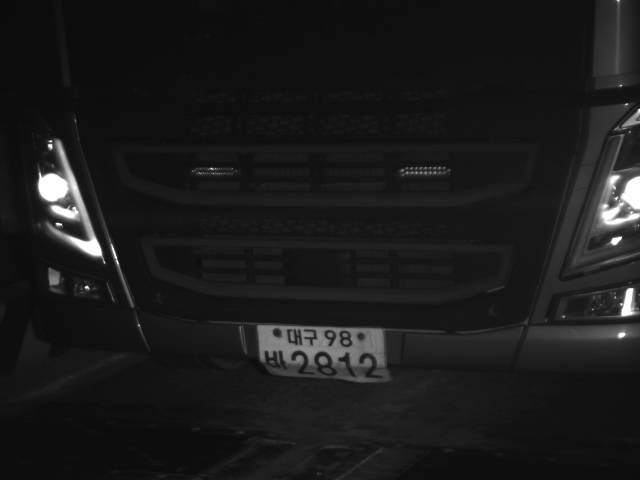car: (24, 1, 638, 388)
plate: (257, 323, 390, 384)
